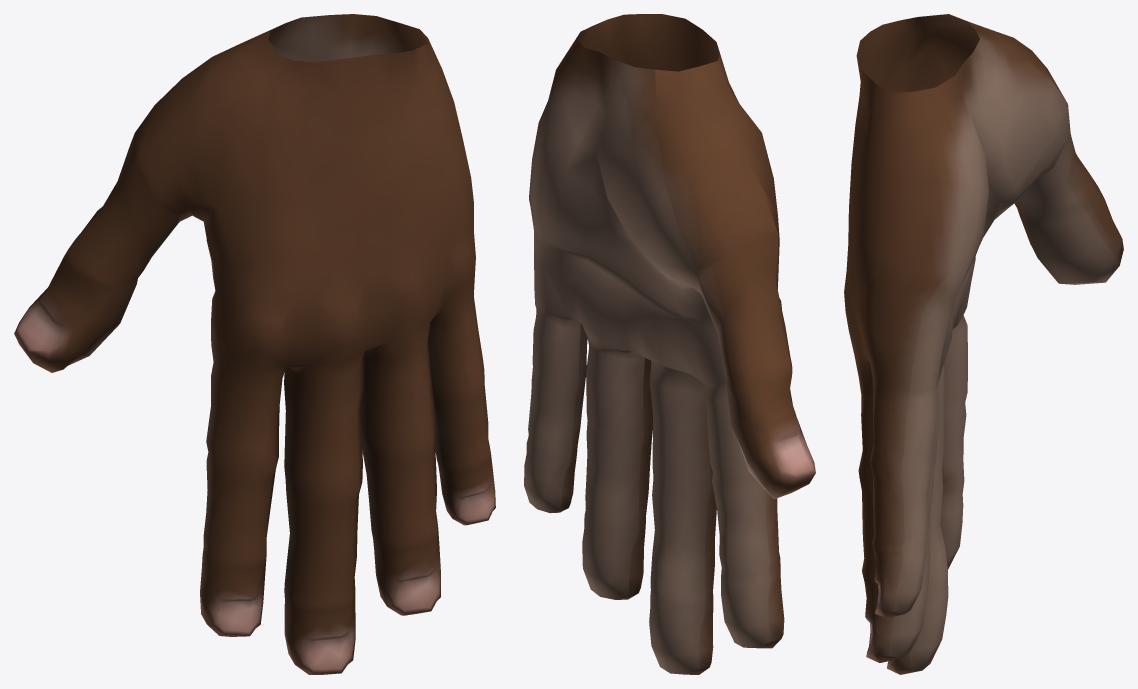
The model's file is op_mano.glb.
The picture shows the model from 3 angles, left to right: view 1: azimuth 30°, elevation 25°; view 2: azimuth 150°, elevation 25°; view 3: azimuth 270°, elevation 25°; orthographic projection.
Parts seen in each view (by area): view 1: Ch03; view 2: Ch03; view 3: Ch03.
Part boxes in pixels (<box>): Ch03: <box>14,14,495,674</box>; Ch03: <box>524,14,815,674</box>; Ch03: <box>844,14,1123,674</box>.
Size of the model in its own units: 0.1156 by 0.1849 by 0.0732.
Materials: 1 (1 with a texture image).
